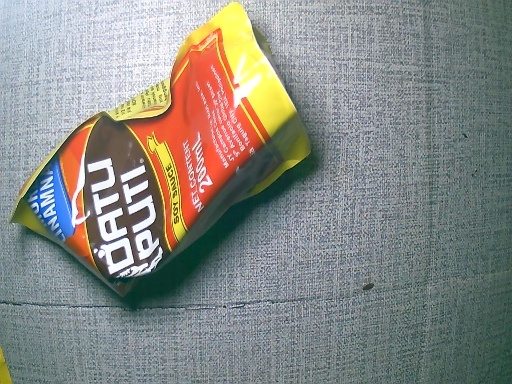plastic: (15, 2, 320, 312)
